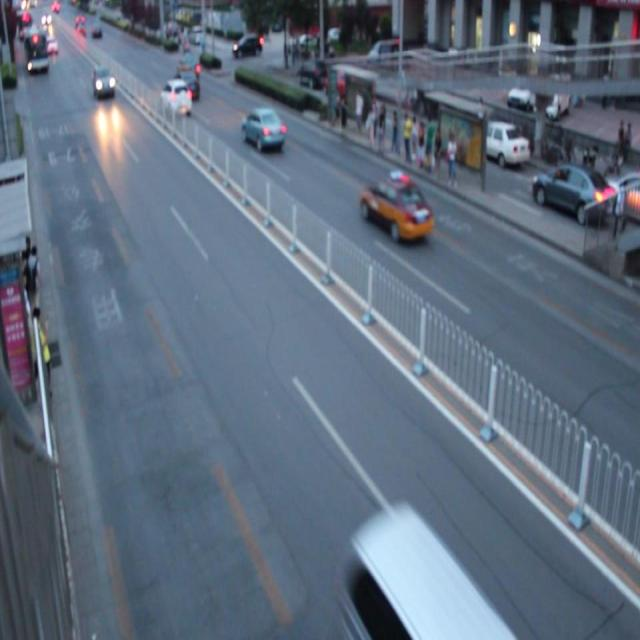car: (359, 172, 432, 244), (241, 105, 284, 153), (160, 80, 192, 118), (173, 67, 200, 101), (92, 63, 115, 98)
